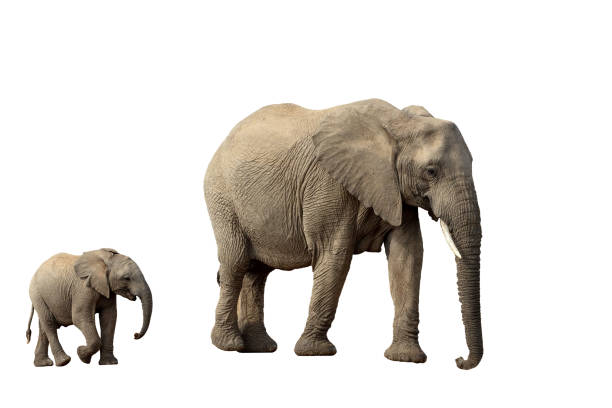africanelephant: (356, 116, 492, 264)
